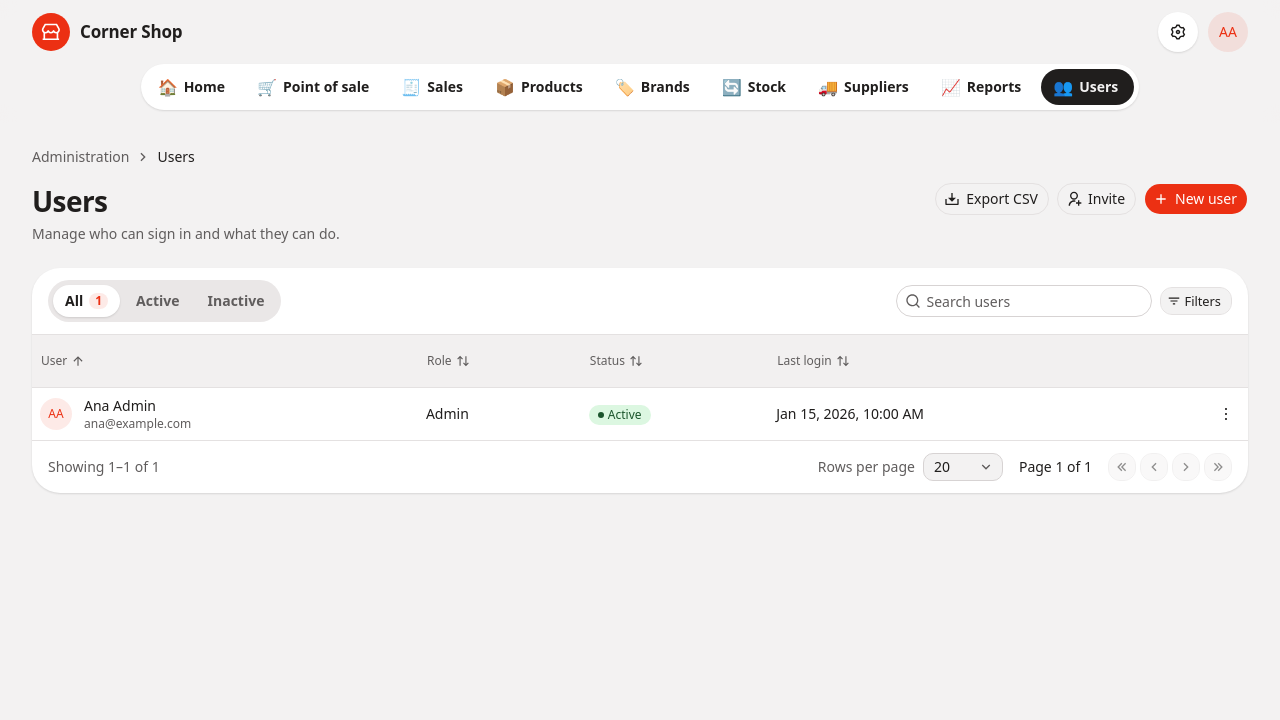
Scenario: InviteDialog › lists pending invites and revokes one
Step 1. Click the button "Invite" → (1097, 199), box [1057,183,1136,215]
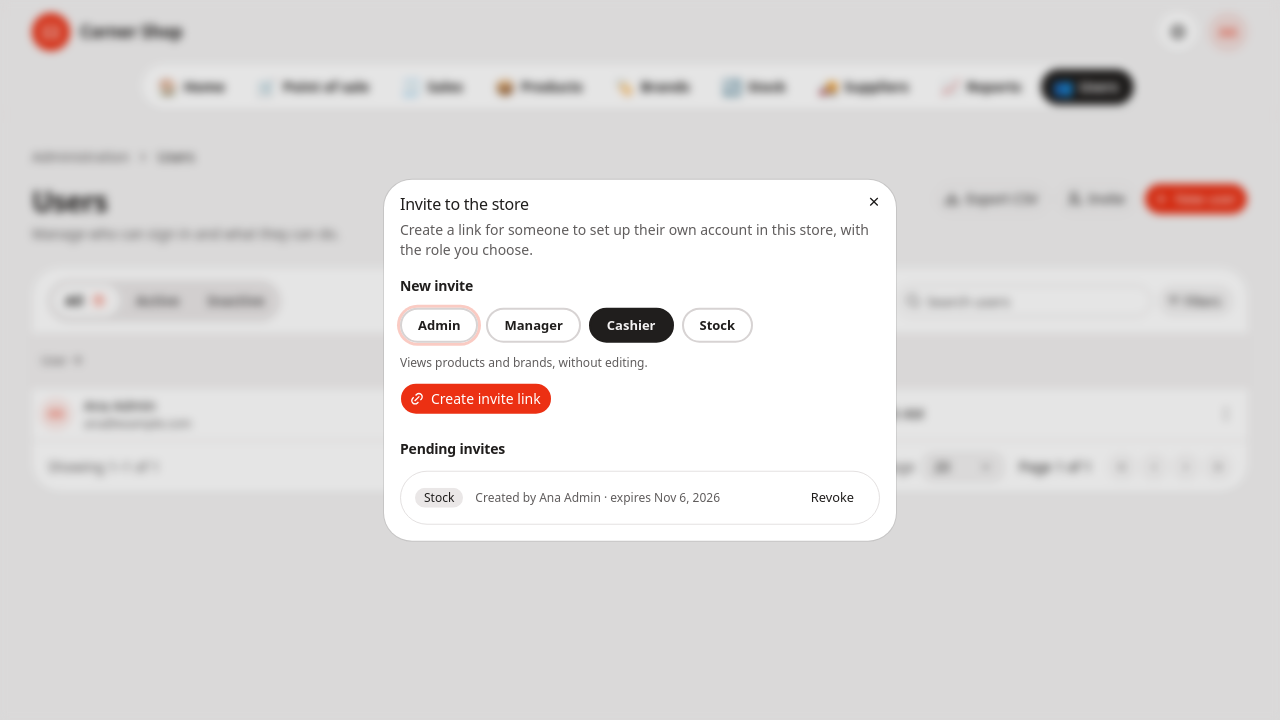
Check: the icon "Stock" is shown, box [415,487,463,507]
Step 2. Click the button with aria-label "Revoke Stock invite created by Ana Admin" → (832, 497), box [800,483,865,511]
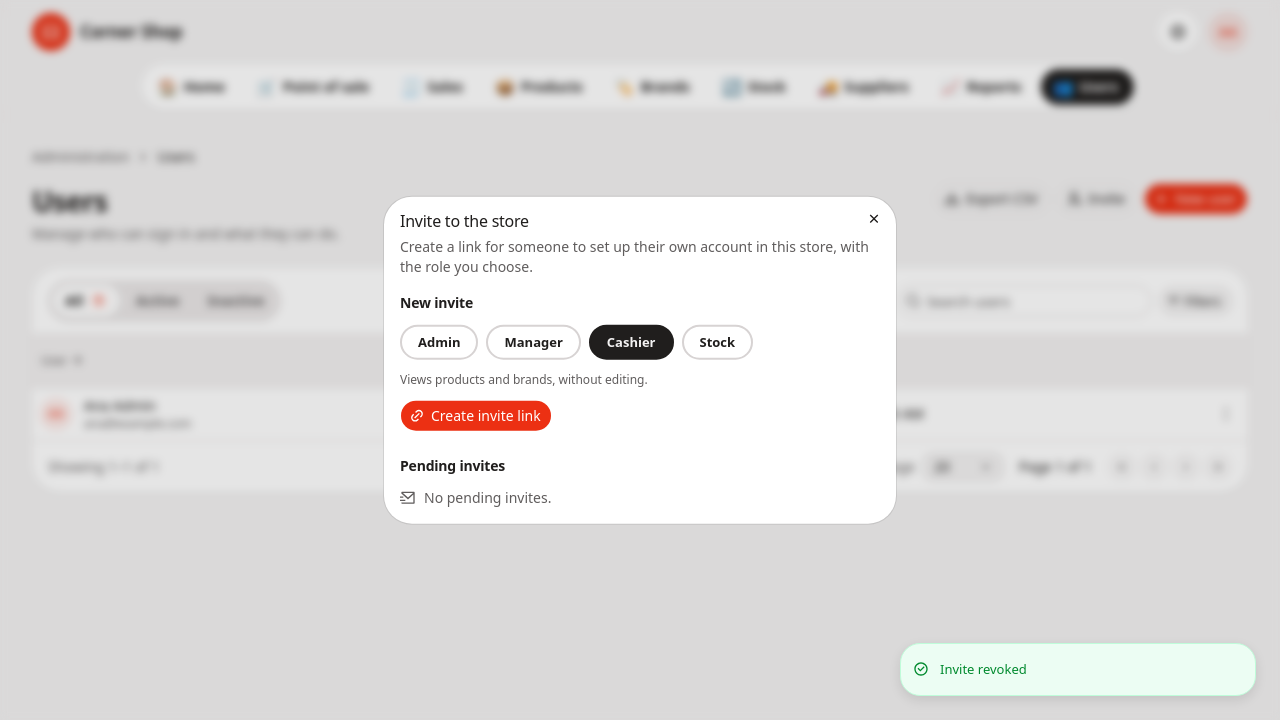
Check: the text "No pending invites." is shown, box [400,487,551,506]
